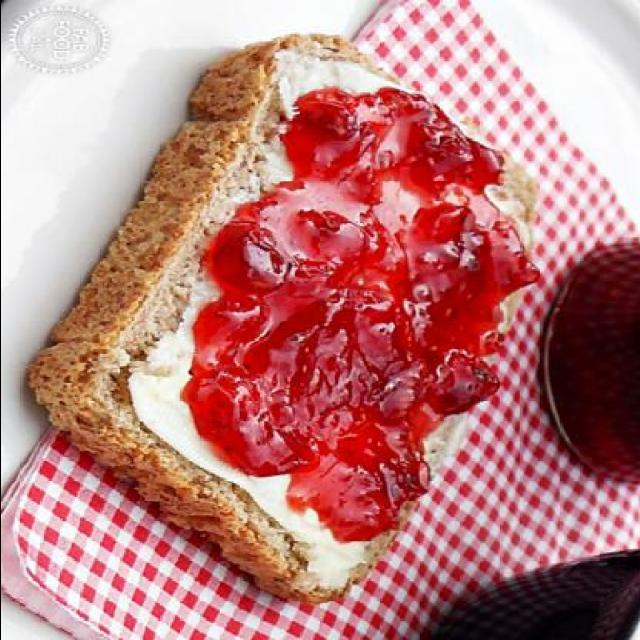Spread: (219, 111, 490, 474)
